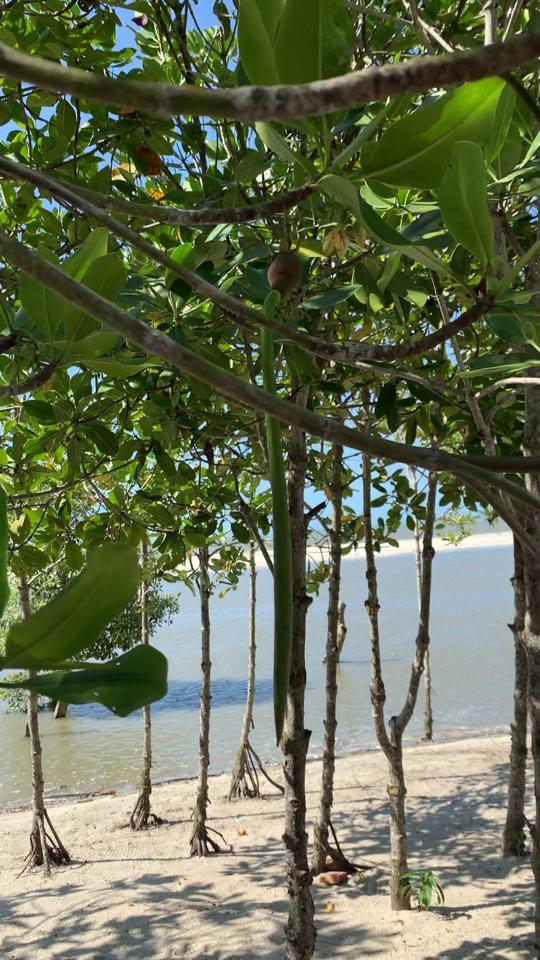setengah matang: (253, 237, 313, 758)
